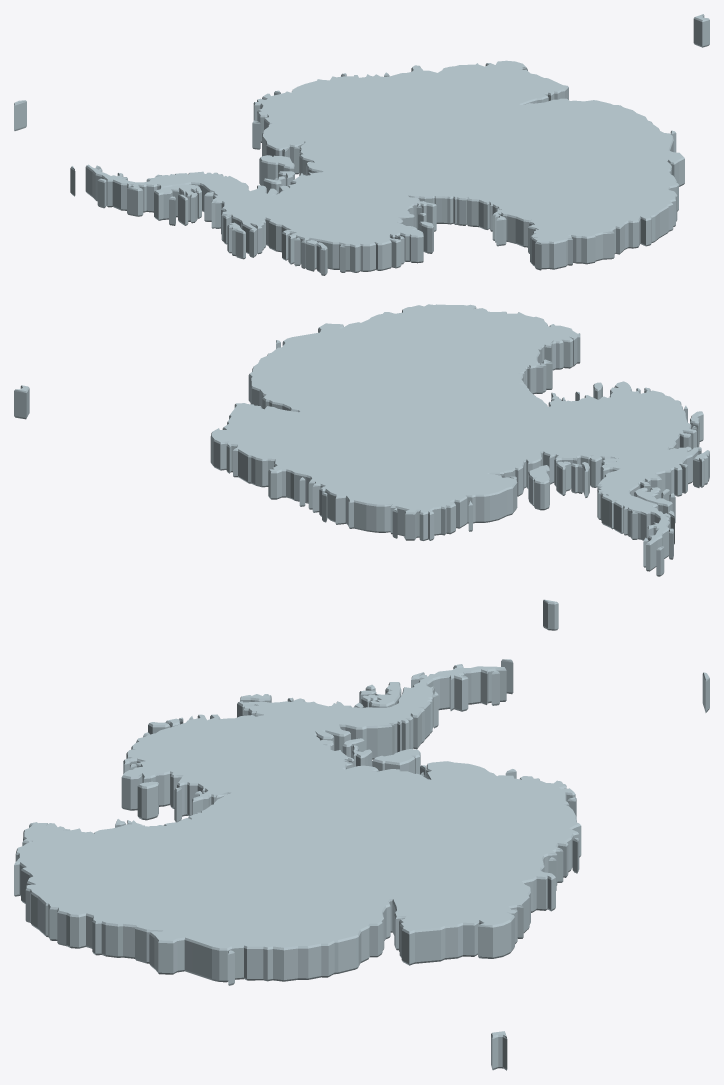
The model's file is antartida.glb.
3 views of the same model, one above another, from view 1: azimuth 30°, elevation 25°; view 2: azimuth 150°, elevation 25°; view 3: azimuth 270°, elevation 25° (orthographic). The views are drawn at different scales.
Size of the model in its own units: 1.63 by 0.068 by 1.27.
